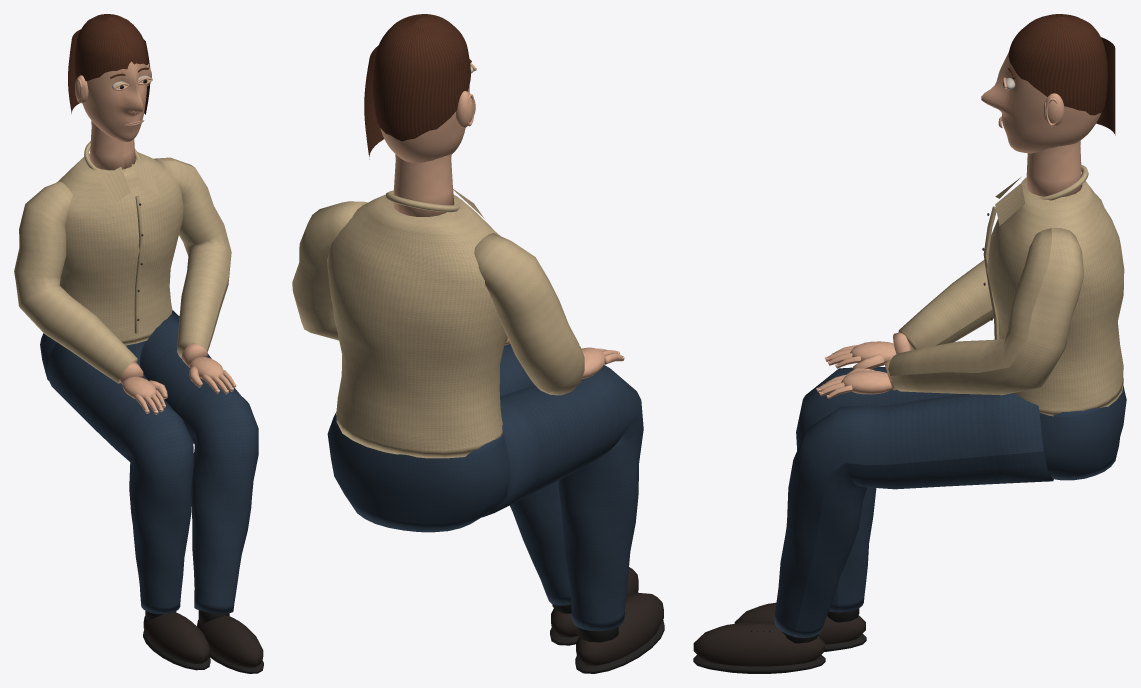
The model's file is 04_Elena_LOD1.glb.
3 views of the same model, side by side, from view 1: azimuth 30°, elevation 25°; view 2: azimuth 150°, elevation 25°; view 3: azimuth 270°, elevation 25° (orthographic). The views are drawn at different scales.
Parts seen in each view (by area): view 1: top, trousers, skin, shoes, hair, face, sole; view 2: top, trousers, hair, skin, shoes, face, sole; view 3: trousers, top, hair, skin, shoes, face, sole.
Boxes of the visible parts, x1=… form: top: x1=14, y1=141, x2=231, y2=383; trousers: x1=40, y1=310, x2=258, y2=613; skin: x1=75, y1=64, x2=236, y2=414; shoes: x1=143, y1=612, x2=263, y2=667; hair: x1=68, y1=14, x2=150, y2=114; face: x1=82, y1=61, x2=147, y2=141; sole: x1=143, y1=610, x2=263, y2=673; top: x1=292, y1=189, x2=584, y2=458; trousers: x1=327, y1=344, x2=643, y2=631; hair: x1=364, y1=14, x2=471, y2=159; skin: x1=392, y1=63, x2=624, y2=379; shoes: x1=551, y1=567, x2=663, y2=665; face: x1=380, y1=86, x2=469, y2=162; sole: x1=550, y1=591, x2=664, y2=673; trousers: x1=774, y1=367, x2=1126, y2=637; top: x1=888, y1=165, x2=1124, y2=416; hair: x1=1008, y1=14, x2=1115, y2=135; skin: x1=817, y1=77, x2=1082, y2=398; shoes: x1=693, y1=602, x2=865, y2=666; face: x1=981, y1=52, x2=1101, y2=153; sole: x1=693, y1=608, x2=866, y2=673.
Bounding box in the file's own units: 0.5234 × 1.33 × 0.7924.
13 materials, 13 textured.
